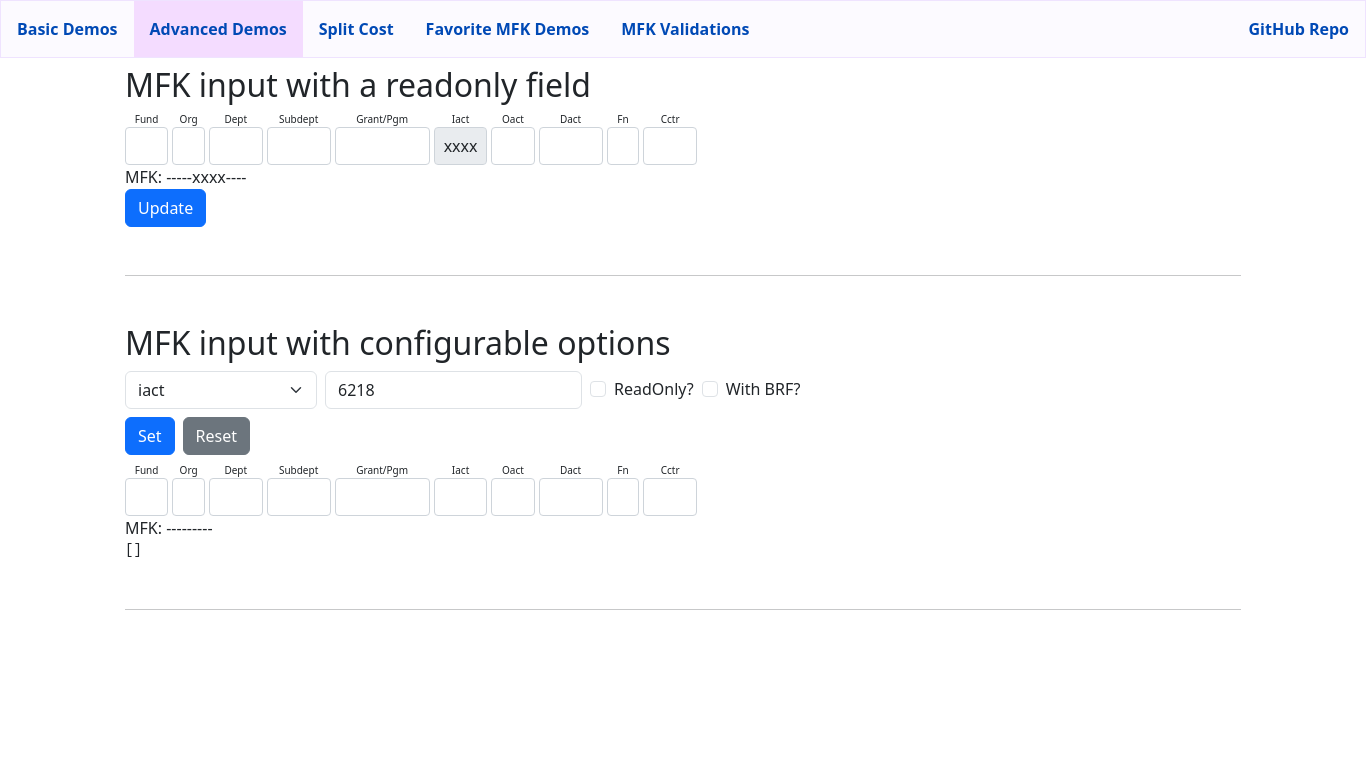
Test: Advanced Demos › should allow to set options
Click the label with id "checkbox-readonly".
click(654, 389)  # box [614, 377, 694, 401]
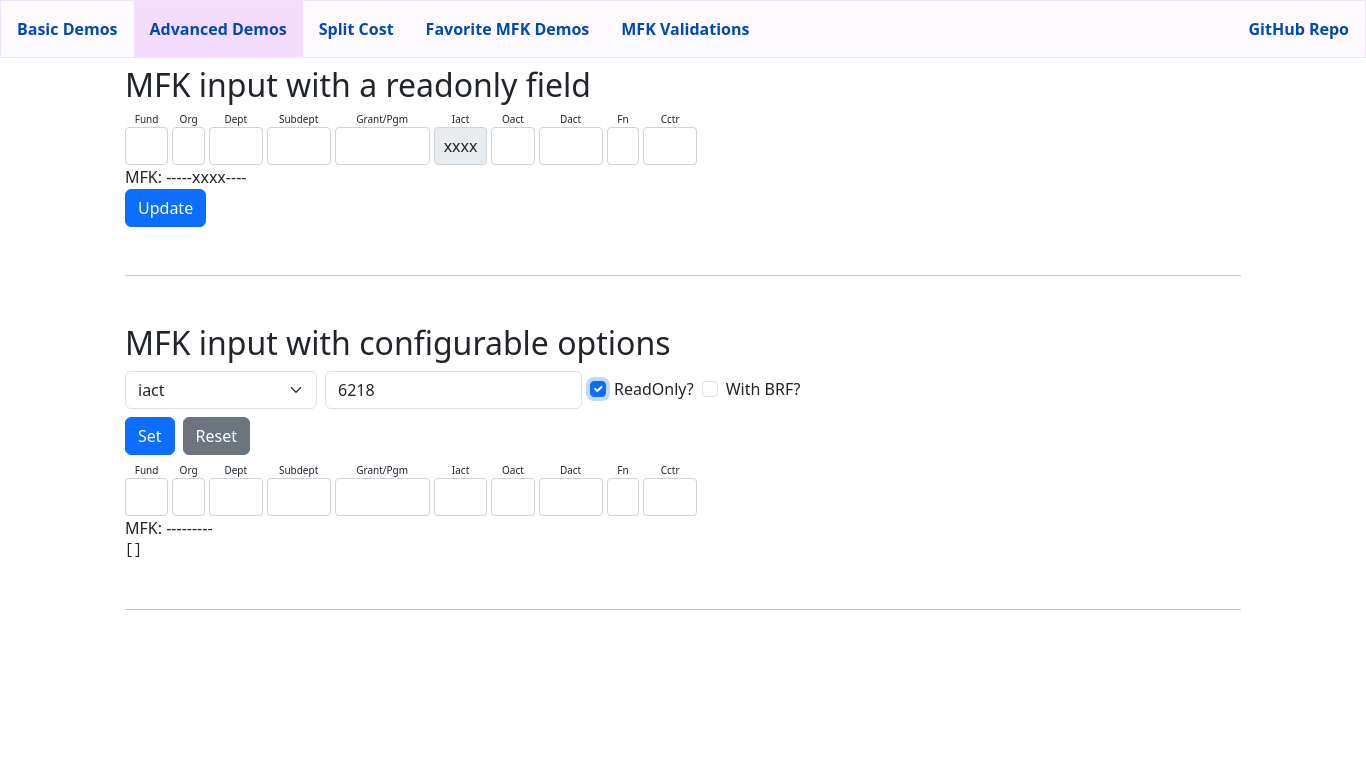
Click the label with id "checkbox-brf".
click(764, 389)  # box [726, 377, 801, 401]
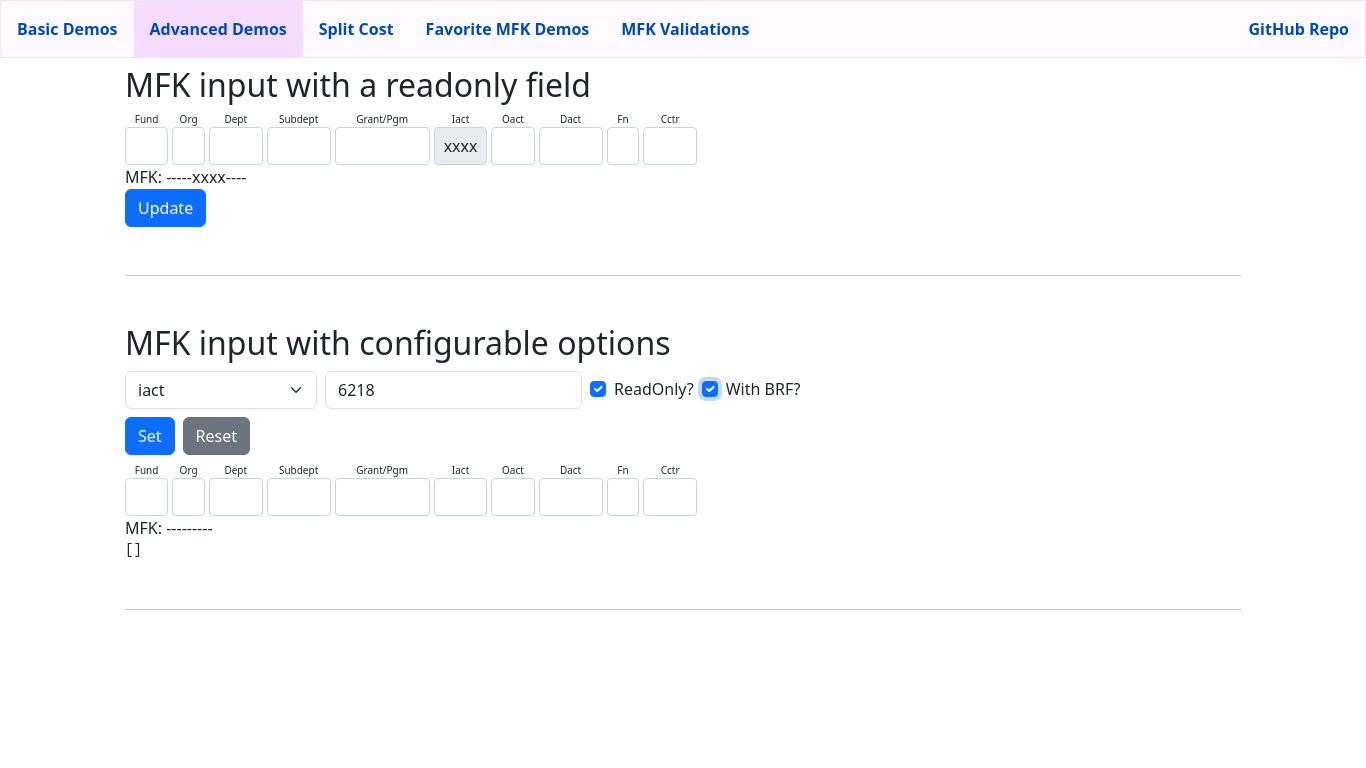
Click the button with id "set-option2-btn".
click(150, 436)  # box [125, 417, 175, 455]
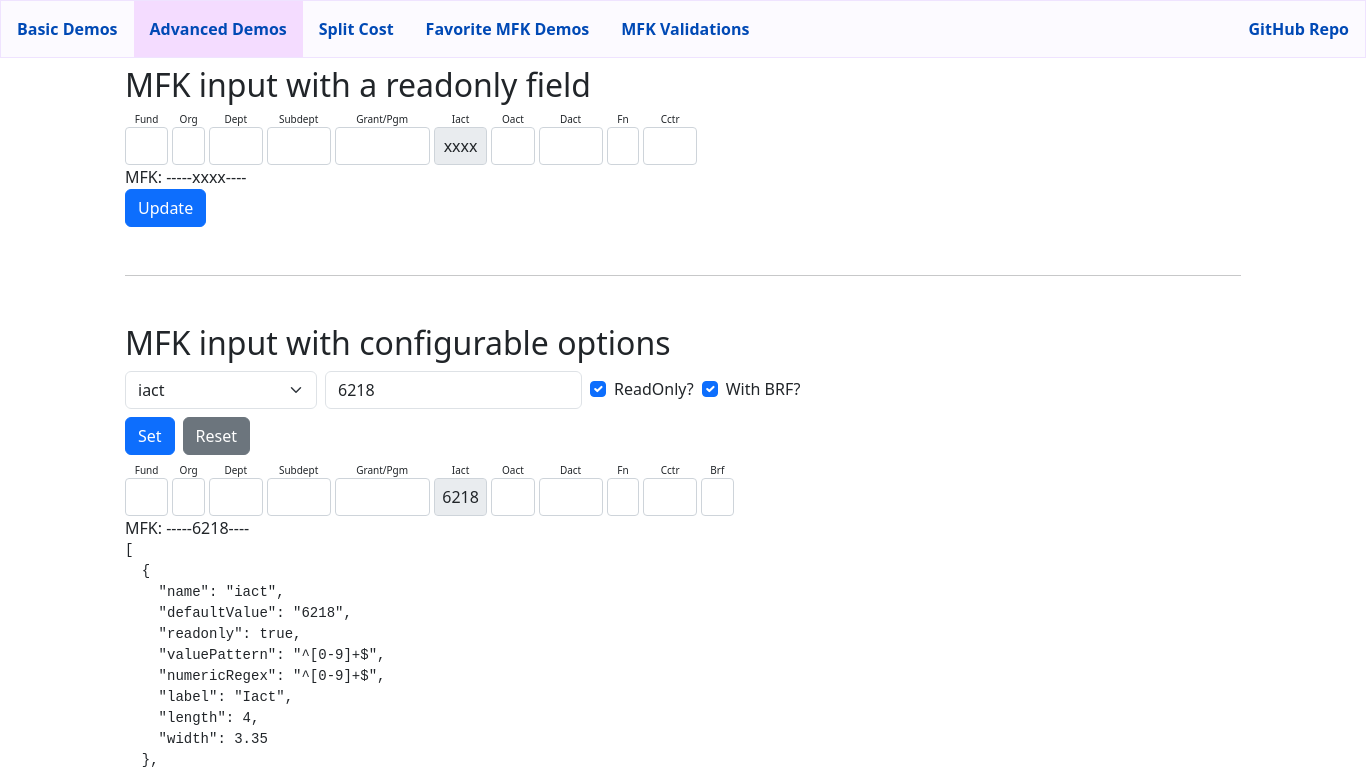
Check: the element showing "-----6218----" is shown, box [166, 517, 249, 539]
Check: the field labelled "Iact" below "ReadOnly?" holds "6218", box [434, 478, 488, 516]
